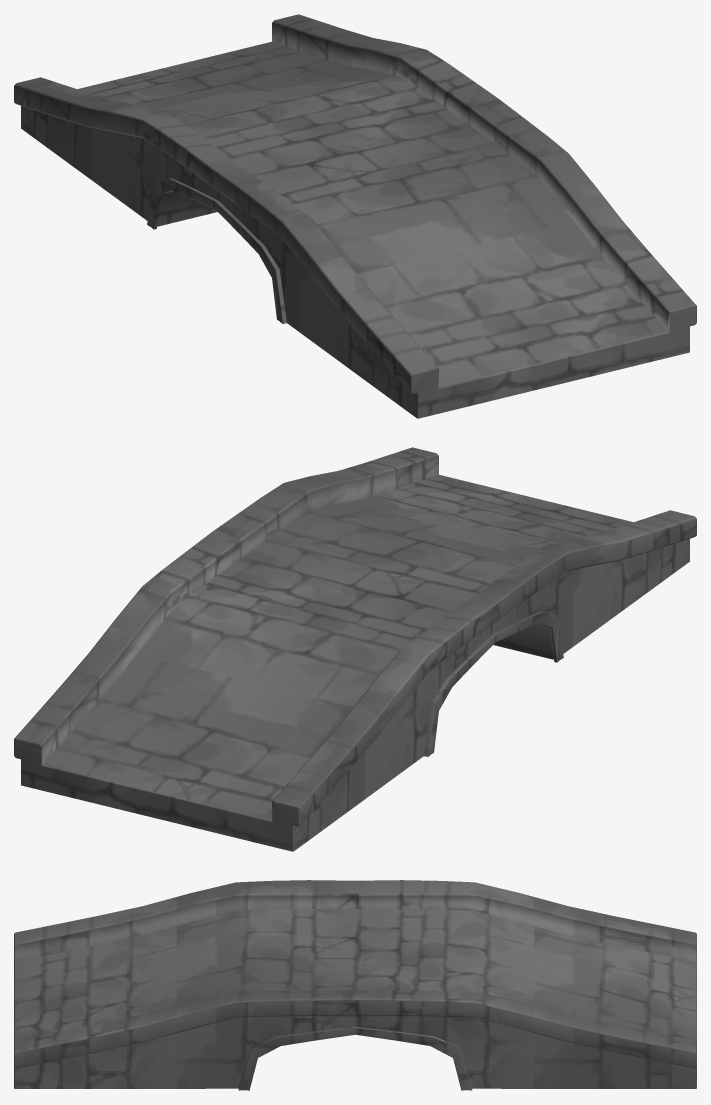
File: rowroad02.FBX
3 renders of one model, top to bottom at view 1: azimuth 30°, elevation 25°; view 2: azimuth 150°, elevation 25°; view 3: azimuth 270°, elevation 25°, orthographic. The views are drawn at different scales.
Parts seen in each view (by area): view 1: bridge_02; view 2: bridge_02; view 3: bridge_02.
Part boxes in pixels (left/top/right/bottom): bridge_02: left=14, top=14, right=696, bottom=418; bridge_02: left=14, top=447, right=696, bottom=851; bridge_02: left=14, top=880, right=696, bottom=1090.
Bounding box in the file's own units: 207 × 75.16 × 498.
